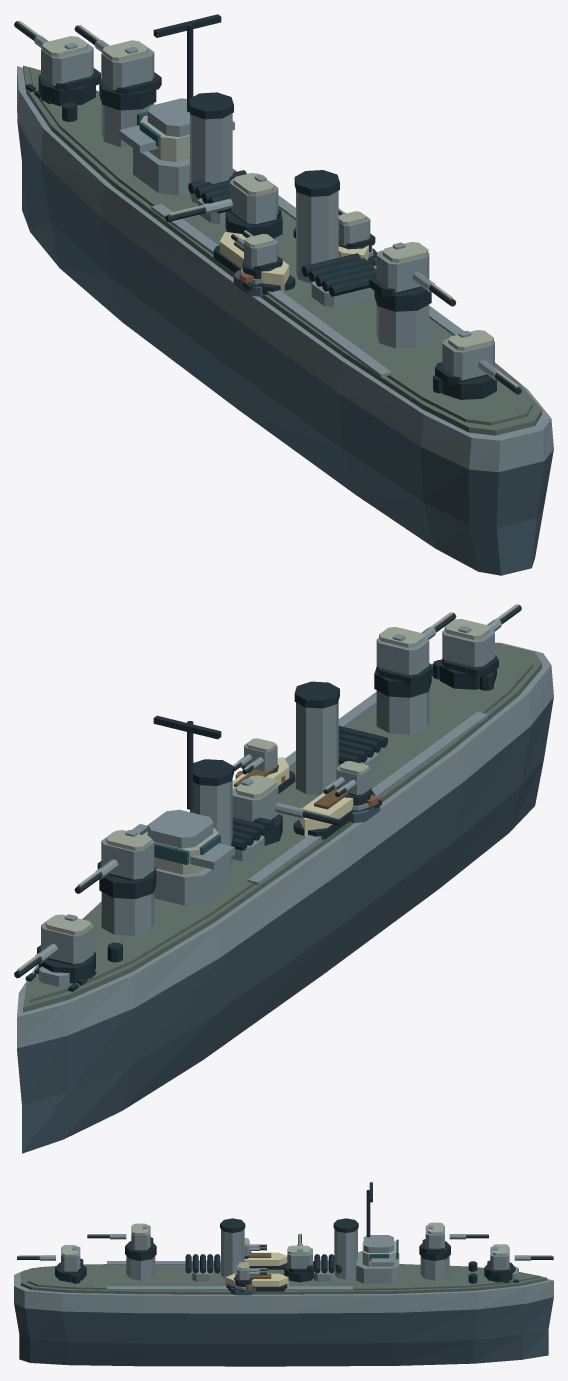
File: historic-gleaves.glb
3 views of the same model, one above another, from view 1: azimuth 30°, elevation 25°; view 2: azimuth 150°, elevation 25°; view 3: azimuth 270°, elevation 25° (orthographic). The views are drawn at different scales.
Parts seen in each view (by area): view 1: historic-gleaves-historic-gleaves-geometry, historic-gleaves-part_bridge.131-geometry, historic-gleaves-historic_funnel_1.069-geometry, historic-gleaves-turret_main_1.093-geometry, historic-gleaves-turret_main_3.054-geometry, historic-gleaves-historic_funnel_0.124-geometry, historic-gleaves-turret_main_0.100-geometry, historic-gleaves-turret_main_4.019-geometry, historic-gleaves-turret_main_2.079-geometry, historic-gleaves-torpedo_bank_0.040-geometry, historic-gleaves-turret_aa_aa-port.133-geometry, historic-gleaves-turret_aa_aa-starboard.129-geometry (+1 smaller); view 2: historic-gleaves-historic-gleaves-geometry, historic-gleaves-part_bridge.131-geometry, historic-gleaves-historic_funnel_1.069-geometry, historic-gleaves-turret_main_3.054-geometry, historic-gleaves-turret_main_1.093-geometry, historic-gleaves-turret_main_4.019-geometry, historic-gleaves-turret_main_0.100-geometry, historic-gleaves-turret_main_2.079-geometry, historic-gleaves-historic_funnel_0.124-geometry, historic-gleaves-torpedo_bank_0.040-geometry, historic-gleaves-torpedo_bank_1.037-geometry, historic-gleaves-turret_aa_aa-port.133-geometry (+1 smaller); view 3: historic-gleaves-historic-gleaves-geometry, historic-gleaves-part_bridge.131-geometry, historic-gleaves-historic_funnel_0.124-geometry, historic-gleaves-historic_funnel_1.069-geometry, historic-gleaves-turret_main_1.093-geometry, historic-gleaves-turret_main_3.054-geometry, historic-gleaves-turret_main_0.100-geometry, historic-gleaves-turret_main_4.019-geometry, historic-gleaves-turret_main_2.079-geometry, historic-gleaves-torpedo_bank_0.040-geometry, historic-gleaves-torpedo_bank_1.037-geometry, historic-gleaves-turret_aa_aa-starboard.129-geometry (+1 smaller).
Boxes of the visible parts, x1,y1,x2,y2 form: historic-gleaves-historic-gleaves-geometry: [17, 65, 553, 575]; historic-gleaves-part_bridge.131-geometry: [119, 14, 234, 195]; historic-gleaves-historic_funnel_1.069-geometry: [294, 170, 339, 283]; historic-gleaves-turret_main_1.093-geometry: [74, 25, 161, 110]; historic-gleaves-turret_main_3.054-geometry: [369, 242, 456, 311]; historic-gleaves-historic_funnel_0.124-geometry: [188, 92, 233, 203]; historic-gleaves-turret_main_0.100-geometry: [14, 20, 100, 105]; historic-gleaves-turret_main_4.019-geometry: [435, 330, 521, 399]; historic-gleaves-turret_main_2.079-geometry: [165, 173, 282, 238]; historic-gleaves-torpedo_bank_0.040-geometry: [301, 253, 376, 307]; historic-gleaves-turret_aa_aa-port.133-geometry: [231, 230, 282, 279]; historic-gleaves-turret_aa_aa-starboard.129-geometry: [338, 208, 375, 252]; historic-gleaves-historic-gleaves-geometry: [17, 642, 553, 1153]; historic-gleaves-part_bridge.131-geometry: [131, 715, 234, 905]; historic-gleaves-historic_funnel_1.069-geometry: [294, 681, 339, 794]; historic-gleaves-turret_main_3.054-geometry: [374, 612, 456, 697]; historic-gleaves-turret_main_1.093-geometry: [74, 830, 156, 898]; historic-gleaves-turret_main_4.019-geometry: [440, 604, 521, 689]; historic-gleaves-turret_main_0.100-geometry: [14, 914, 95, 983]; historic-gleaves-turret_main_2.079-geometry: [232, 775, 342, 845]; historic-gleaves-historic_funnel_0.124-geometry: [190, 759, 233, 868]; historic-gleaves-torpedo_bank_0.040-geometry: [338, 726, 388, 773]; historic-gleaves-torpedo_bank_1.037-geometry: [231, 817, 274, 861]; historic-gleaves-turret_aa_aa-port.133-geometry: [323, 761, 371, 805]; historic-gleaves-historic-gleaves-geometry: [14, 1252, 553, 1366]; historic-gleaves-part_bridge.131-geometry: [356, 1182, 399, 1283]; historic-gleaves-historic_funnel_0.124-geometry: [333, 1218, 358, 1279]; historic-gleaves-historic_funnel_1.069-geometry: [220, 1218, 245, 1277]; historic-gleaves-turret_main_1.093-geometry: [419, 1222, 488, 1260]; historic-gleaves-turret_main_3.054-geometry: [87, 1223, 156, 1260]; historic-gleaves-turret_main_0.100-geometry: [484, 1244, 553, 1282]; historic-gleaves-turret_main_4.019-geometry: [17, 1245, 86, 1282]; historic-gleaves-turret_main_2.079-geometry: [284, 1233, 314, 1282]; historic-gleaves-torpedo_bank_0.040-geometry: [185, 1254, 220, 1281]; historic-gleaves-torpedo_bank_1.037-geometry: [307, 1254, 341, 1281]; historic-gleaves-turret_aa_aa-starboard.129-geometry: [233, 1262, 266, 1286].
Bounding box in the file's own units: 0.721 × 1.39 × 4.11.
